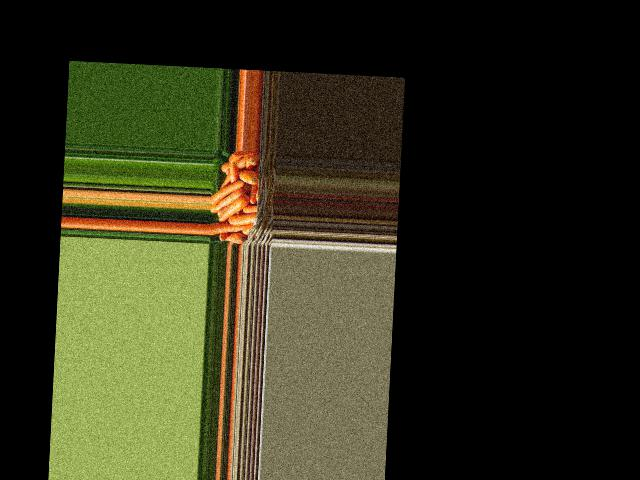carrot: (248, 154, 260, 165)
